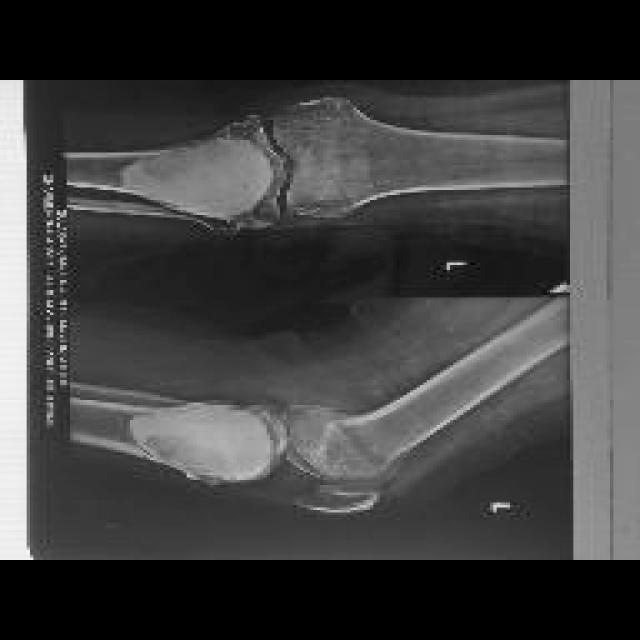bone-cancer: (122, 139, 273, 219), (130, 402, 273, 482)
